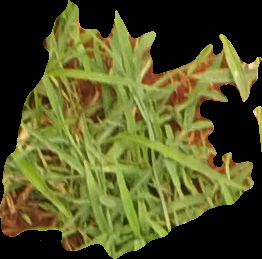grass: (1, 1, 261, 257)
